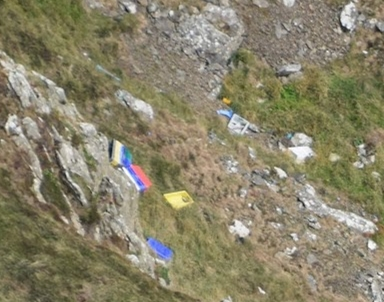scattered_barrel: (103, 133, 201, 267)
white_in_green: (203, 86, 273, 154), (274, 129, 332, 177)
